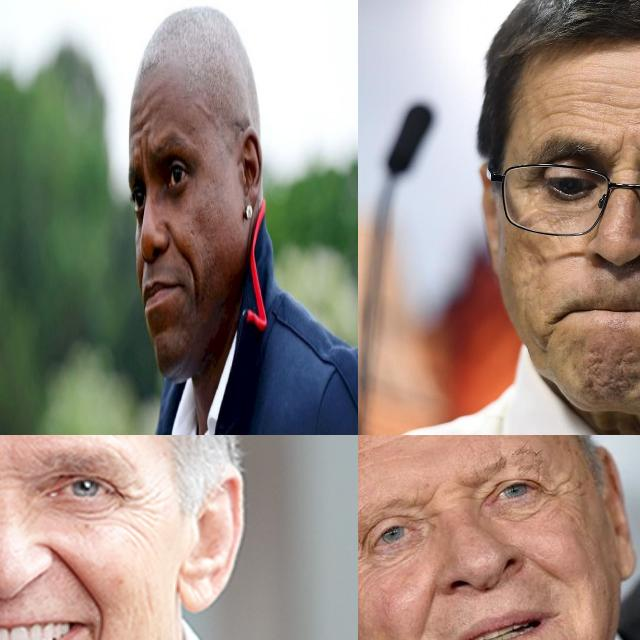chin: (584, 356, 634, 392)
crows_feet: (115, 480, 151, 528), (546, 471, 580, 507), (358, 541, 368, 575)
forehead: (538, 86, 610, 132), (620, 88, 640, 132), (133, 105, 149, 137)
frown_line: (0, 458, 23, 498), (418, 482, 440, 520), (605, 138, 625, 170), (138, 148, 150, 176)
gummy_smile: (51, 546, 97, 604), (516, 548, 558, 582), (412, 586, 438, 640), (168, 224, 191, 268), (137, 262, 146, 290)
sad_smile: (87, 622, 111, 640), (190, 273, 199, 304)
